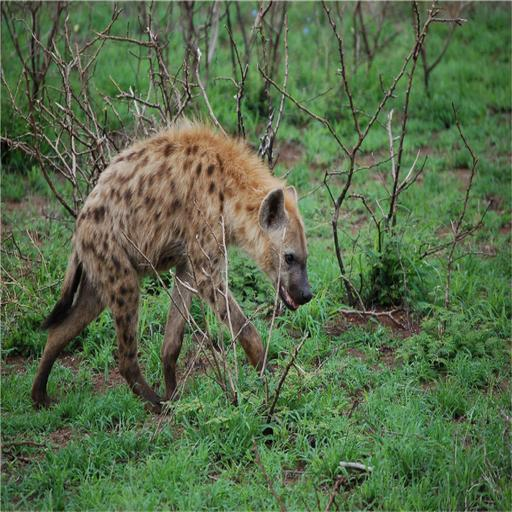Hyena: (23, 114, 320, 419)
